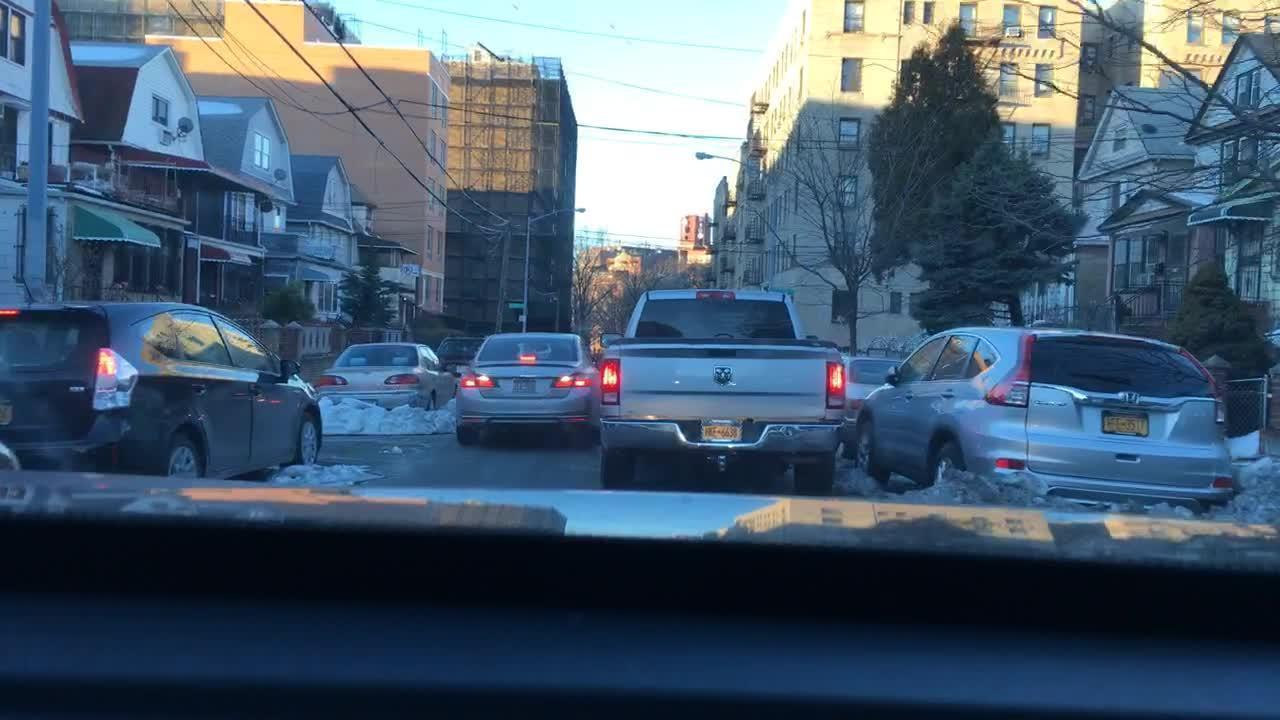Honda: (1116, 391, 1152, 410)
ram: (707, 363, 739, 391)
